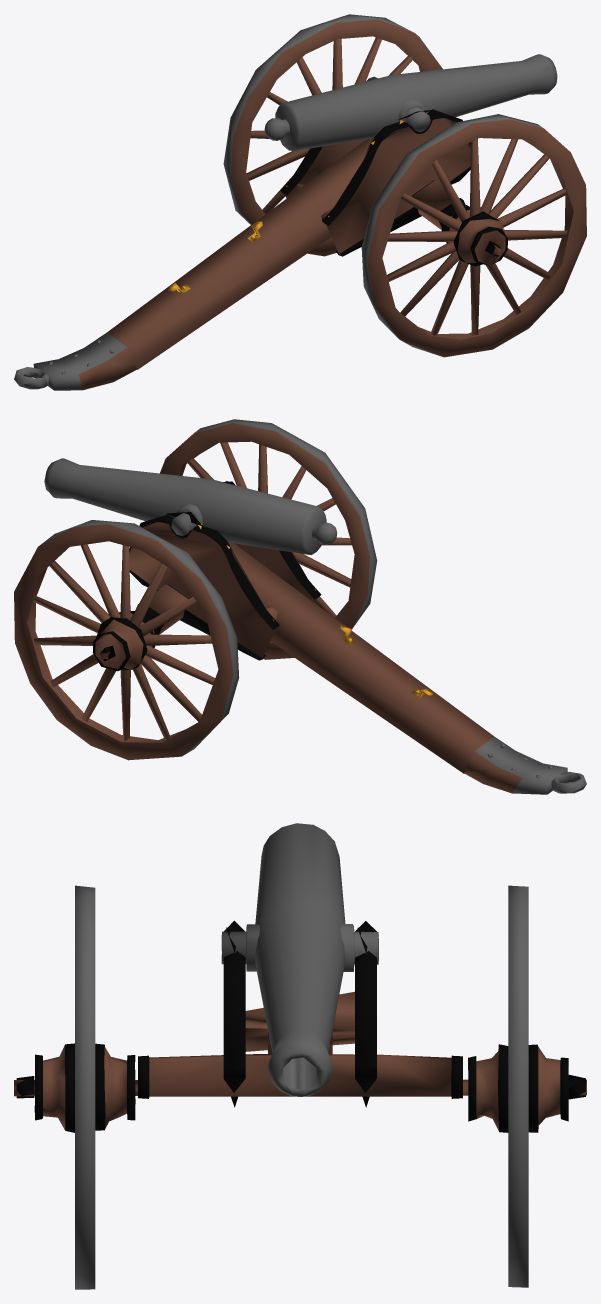
The model's file is cannon_3_reduced.fbx.
The picture shows the model from 3 angles, top to bottom: view 1: azimuth 30°, elevation 25°; view 2: azimuth 150°, elevation 25°; view 3: azimuth 270°, elevation 25°; orthographic projection. The views are drawn at different scales.
Visible parts, largest first — view 1: Wheel.L, Tongue, Barrel, Wheel.R, Vert, Vert.001, WheelBase; view 2: Wheel.R, Tongue, Barrel, Wheel.L, Vert.001, Vert, WheelBase; view 3: Barrel, Wheel.L, Wheel.R, WheelBase, Vert, Vert.001, Connections, Axel.
Boxes of the visible parts, box(x1,y1,x2,y2) form: Wheel.L: box(361, 114, 586, 357); Tongue: box(14, 138, 372, 390); Barrel: box(264, 54, 557, 151); Wheel.R: box(223, 14, 442, 256); Vert: box(322, 109, 470, 256); Vert.001: box(280, 139, 365, 198); WheelBase: box(412, 180, 465, 229); Wheel.R: box(14, 520, 239, 760); Tongue: box(228, 542, 586, 794); Barrel: box(44, 458, 337, 555); Wheel.L: box(160, 419, 377, 659); Vert.001: box(129, 512, 279, 660); Vert: box(223, 481, 321, 603); WheelBase: box(136, 584, 188, 634); Barrel: box(221, 823, 378, 1096); Wheel.L: box(34, 885, 135, 1289); Wheel.R: box(468, 885, 568, 1287); WheelBase: box(138, 1054, 462, 1098); Vert: box(223, 920, 245, 1107); Vert.001: box(355, 921, 376, 1107); Connections: box(245, 991, 354, 1051); Axel: box(14, 1074, 586, 1099).
Size of the model in its own units: 350 by 146 by 207.
